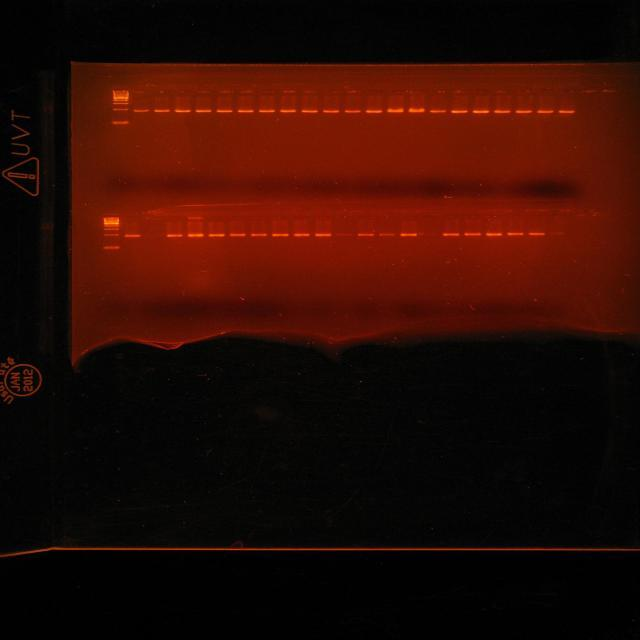B: (408, 106, 426, 114), (514, 108, 534, 114), (364, 108, 384, 114), (356, 232, 376, 238), (313, 232, 333, 238), (292, 232, 312, 238), (249, 232, 269, 238), (300, 108, 319, 114), (278, 108, 297, 114), (236, 108, 255, 114), (214, 108, 233, 114), (386, 108, 404, 114), (344, 108, 362, 114), (258, 108, 276, 114), (174, 108, 192, 114), (228, 232, 246, 238), (195, 108, 212, 114), (334, 232, 354, 237), (536, 109, 555, 114), (493, 109, 512, 114), (527, 231, 546, 236), (378, 232, 397, 237), (558, 109, 576, 114), (322, 109, 340, 114), (484, 232, 504, 236), (270, 233, 290, 237), (472, 110, 491, 114), (207, 234, 226, 238), (463, 232, 482, 236), (442, 232, 461, 236), (399, 232, 418, 236), (430, 109, 448, 113), (550, 232, 568, 236), (506, 232, 524, 236), (451, 110, 468, 114), (124, 234, 141, 238), (166, 234, 183, 238), (187, 233, 204, 237), (132, 109, 150, 112), (154, 109, 170, 112)
L: (106, 81, 622, 97), (97, 208, 619, 223)
M: (101, 220, 122, 254), (109, 96, 131, 128)
P: (111, 120, 129, 126), (102, 246, 120, 250), (102, 233, 120, 237), (112, 108, 130, 111), (112, 99, 130, 102), (112, 102, 129, 105), (104, 228, 120, 231), (112, 97, 130, 99), (104, 225, 120, 227), (103, 224, 120, 225), (104, 223, 120, 224)
Pc: (588, 208, 612, 218), (270, 212, 290, 222), (378, 210, 398, 220), (334, 211, 356, 220), (549, 210, 568, 220), (386, 86, 406, 95), (472, 86, 492, 95), (166, 212, 184, 222), (526, 211, 546, 220), (399, 210, 419, 219), (313, 212, 333, 221), (132, 85, 151, 94), (357, 211, 376, 220), (100, 212, 121, 220), (580, 85, 598, 94), (409, 86, 427, 95), (366, 86, 384, 95), (558, 85, 576, 94), (322, 85, 340, 94), (174, 86, 192, 95), (186, 212, 204, 221), (571, 209, 589, 218), (238, 86, 255, 95), (111, 85, 130, 93), (538, 86, 557, 94), (207, 213, 226, 221), (442, 212, 461, 220), (422, 212, 441, 220), (601, 86, 619, 94), (345, 86, 363, 94), (430, 88, 448, 96), (154, 86, 170, 95), (216, 87, 234, 95), (258, 87, 276, 95), (302, 87, 320, 95), (122, 212, 140, 220), (144, 212, 162, 220), (292, 213, 310, 221), (464, 212, 482, 220), (484, 212, 502, 220), (506, 212, 524, 220), (515, 88, 535, 95), (450, 88, 470, 95), (248, 213, 268, 220), (228, 214, 245, 222), (196, 86, 212, 94), (494, 88, 512, 95), (280, 88, 296, 94)
